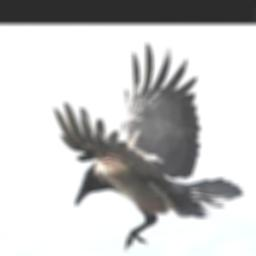Crow: (54, 41, 244, 251)
